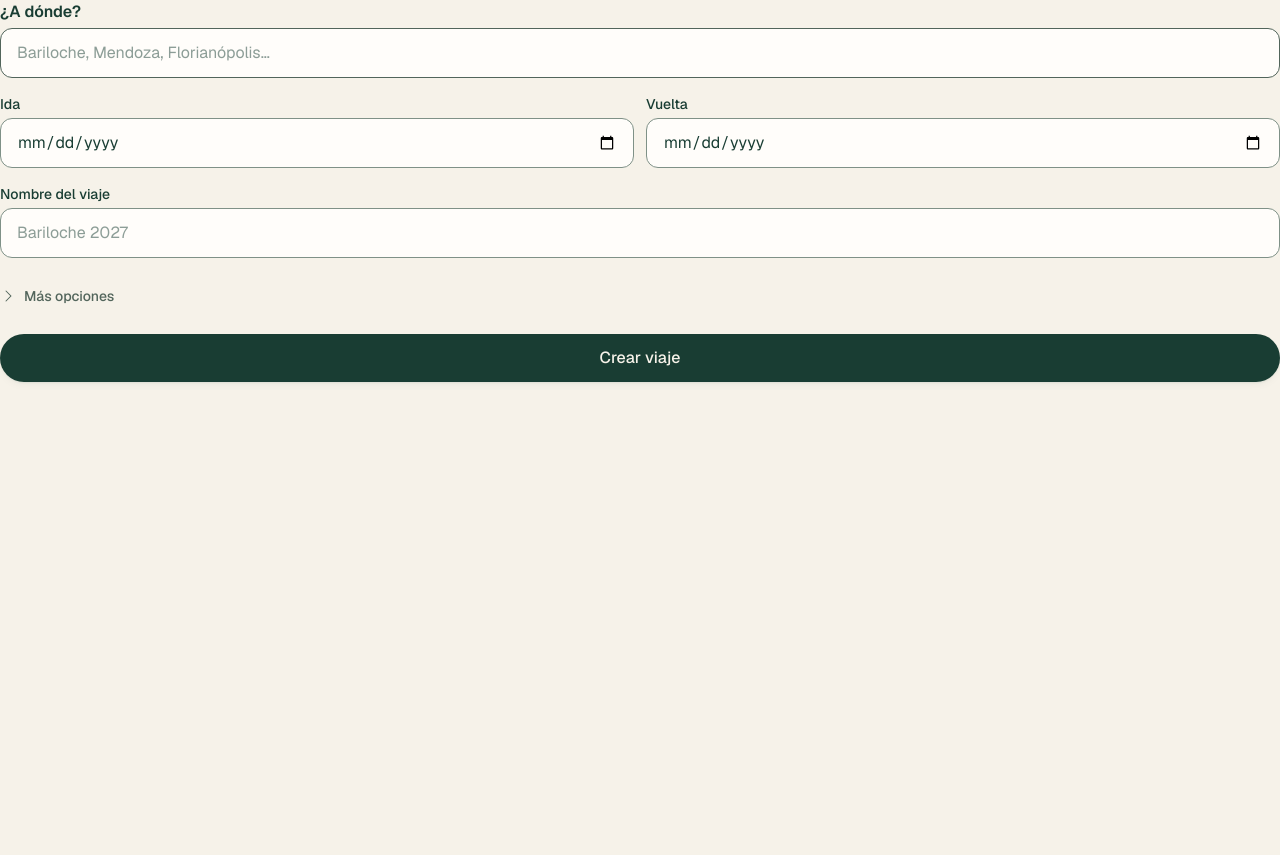
Test: CreateTripForm picture hint › shows Mendoza with its own vineyard photo, not a borrowed scene
The image size is (1280, 855).
Type "Mendoza" into the field labelled "¿A dónde?".
click(640, 53); type("Mendoza")  # box [0,28,1279,78]
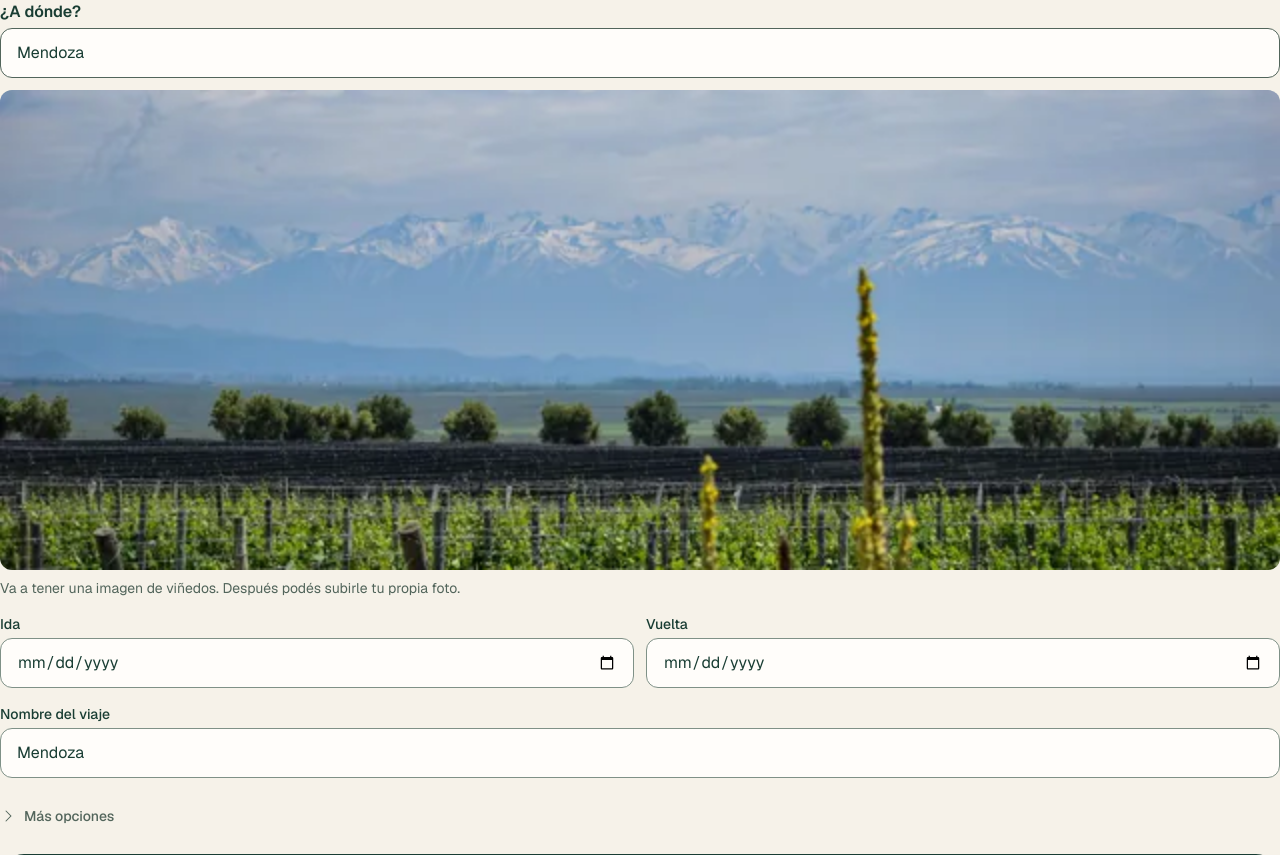
Expected: the message shows "viñedos", [0,579,460,597]
